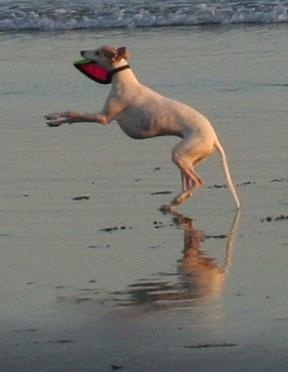dog: (43, 45, 242, 213)
